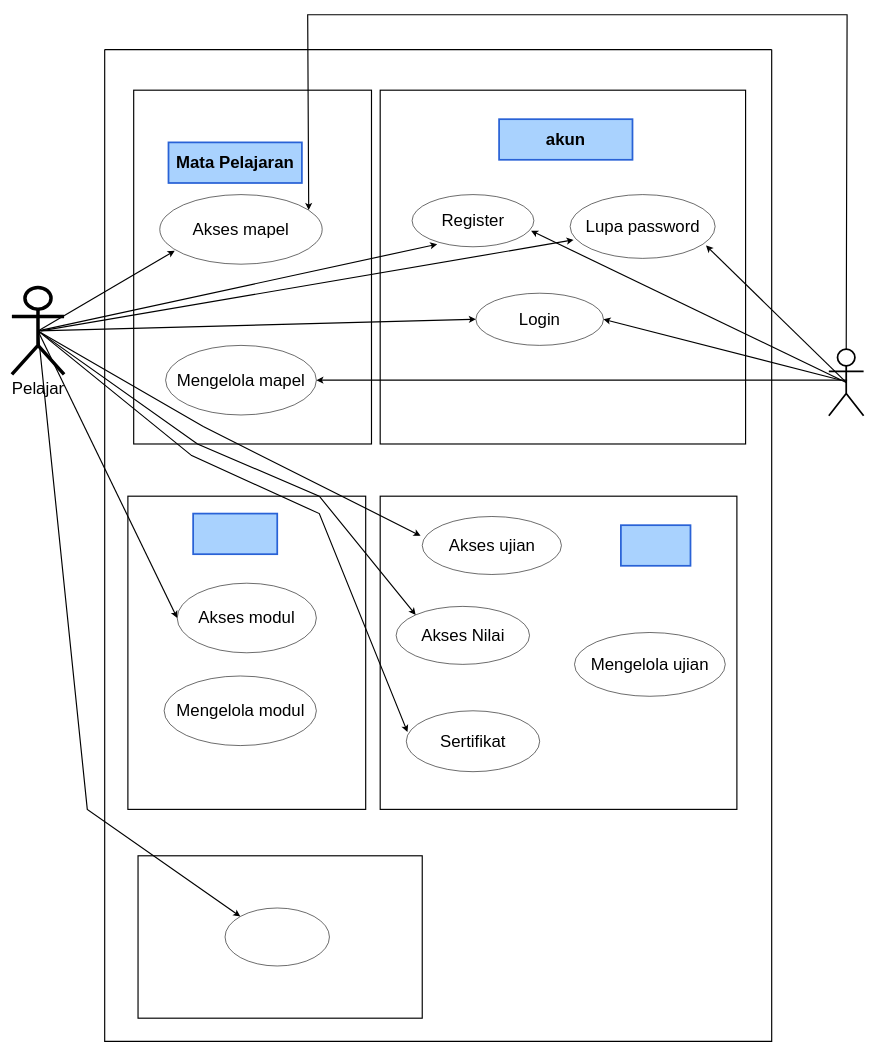
Some shapes in this 890 by 1052 pixel diagram are drawn without their labels. Each missing label, with the centre of its shape:
"modul" goes at [235,533].
"Pemateri" goes at [846,382].
"Pembayaran" goes at [276,936].
"ujian" goes at [655,545].
